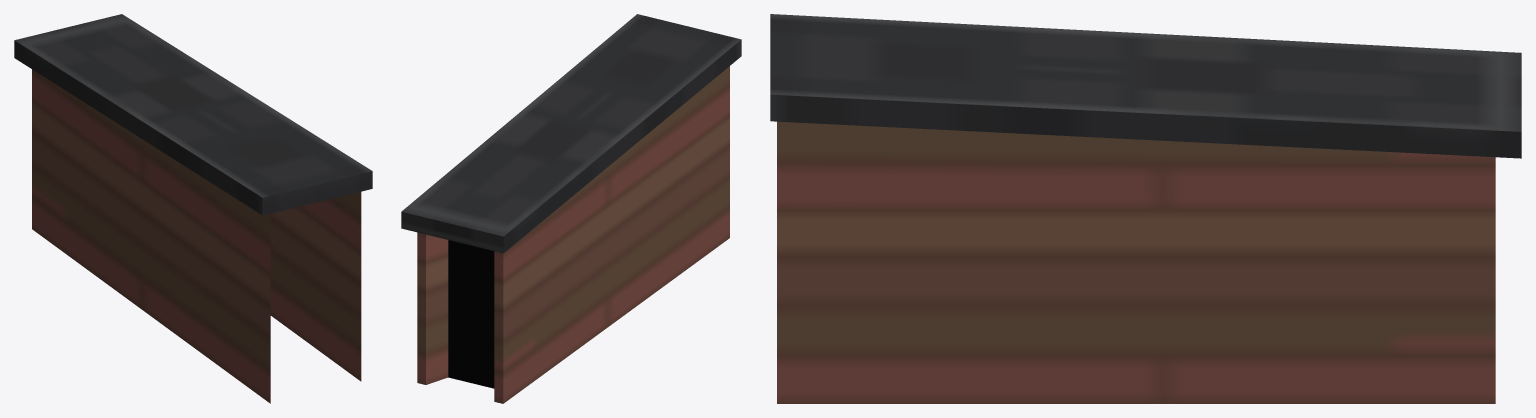
Rendered from roof_window_v3b001.fbx.
The picture shows the model from 3 angles, left to right: view 1: azimuth 30°, elevation 25°; view 2: azimuth 150°, elevation 25°; view 3: azimuth 270°, elevation 25°; orthographic projection. The views are drawn at different scales.
Visible parts, largest first — view 1: roof_window_v3b001; view 2: roof_window_v3b001; view 3: roof_window_v3b001.
Part boxes in pixels (x1,y1,x2,y2): roof_window_v3b001: [14, 14, 372, 403]; roof_window_v3b001: [401, 14, 741, 403]; roof_window_v3b001: [770, 14, 1521, 403].
Size of the model in its own units: 89.92 by 164 by 354.
